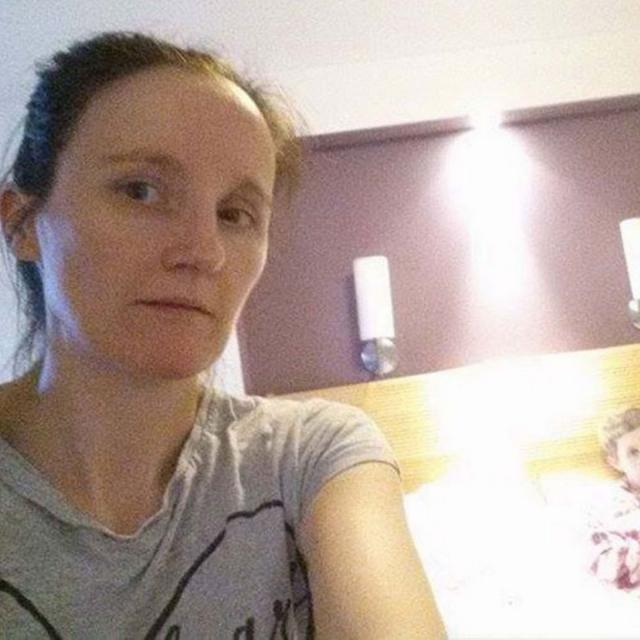earlobe: (0, 183, 41, 266)
